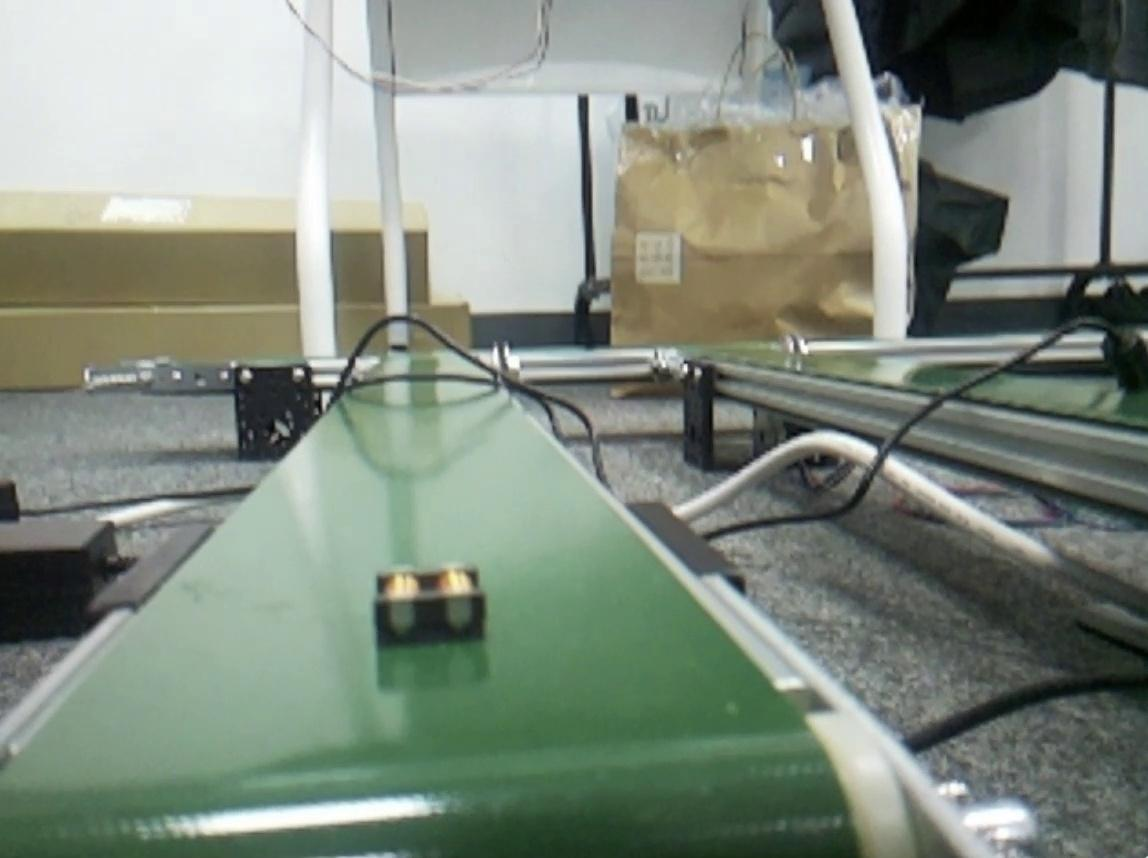inductor: (377, 570, 484, 647)
